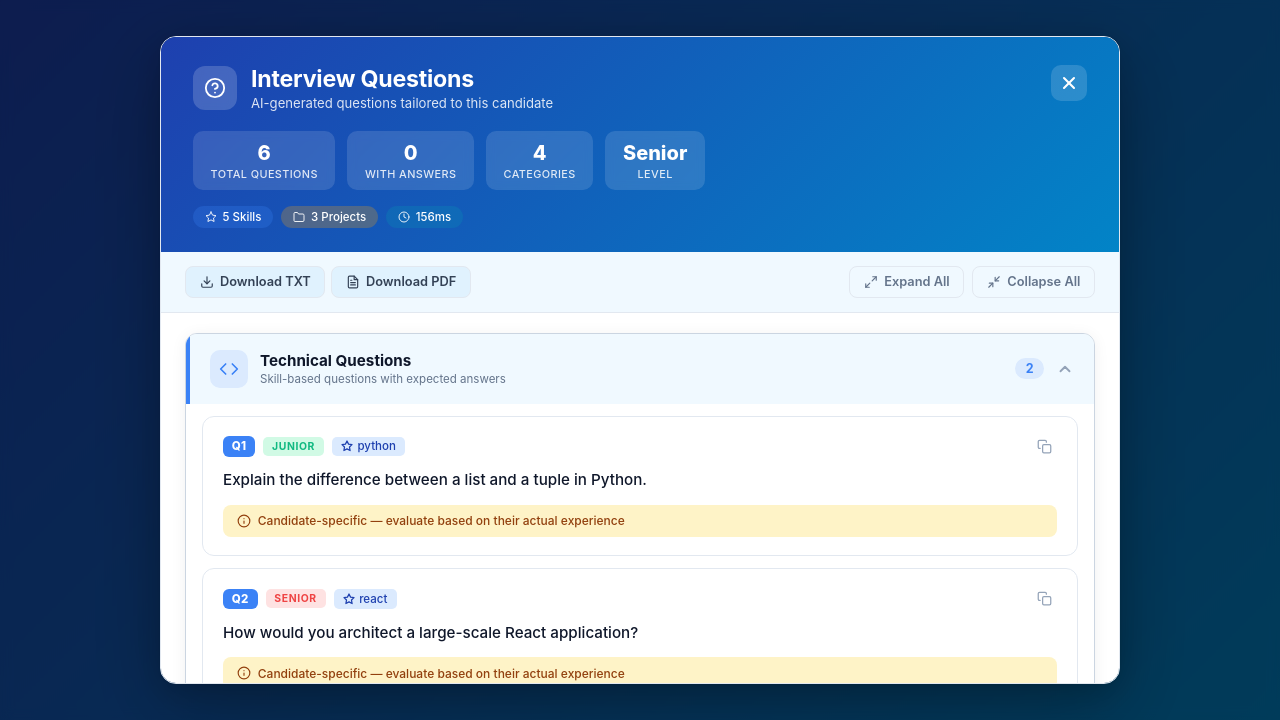
InterviewQuestions Component › Category Expansion/Collapse › expand all button expands all categories
The width and height of the screenshot is (1280, 720).
Click expand all
Click the button "Expand All".
click(907, 282)  # box 849,266 -> 964,298
(page scrolled)
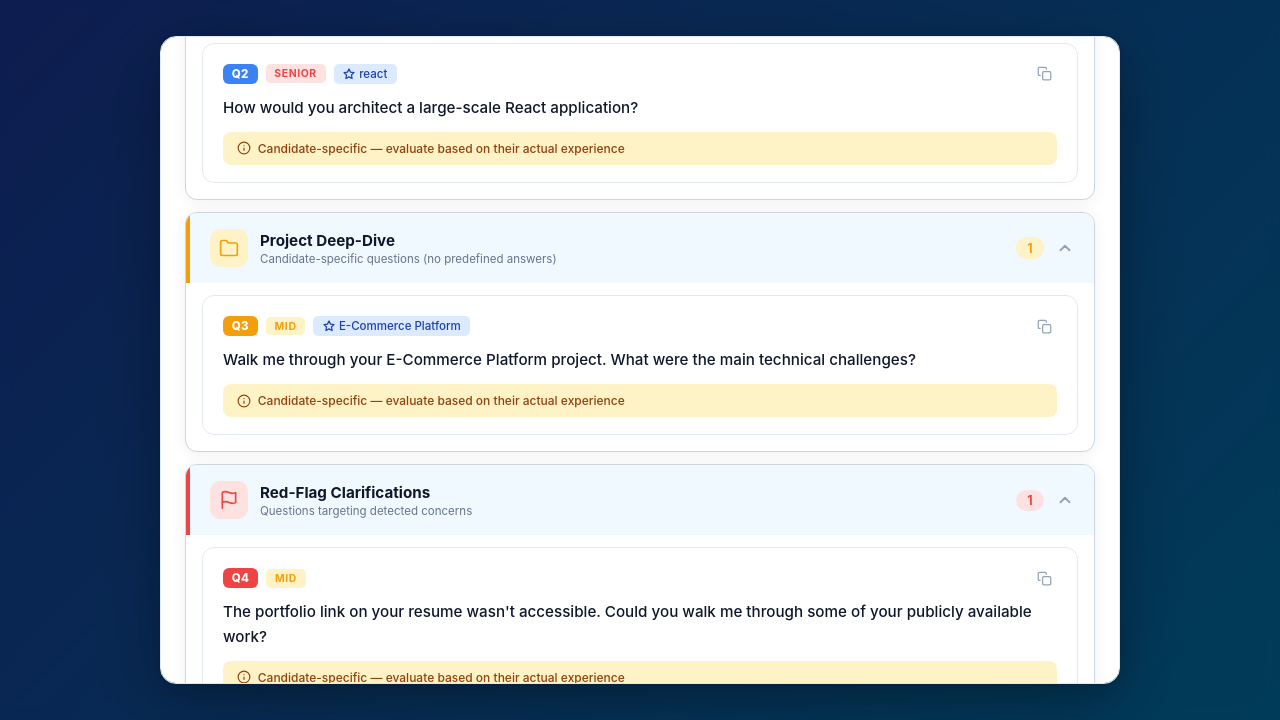
Check: the text "Walk me through your E-Commerce Platform" is shown, box 223,350 -> 916,369
